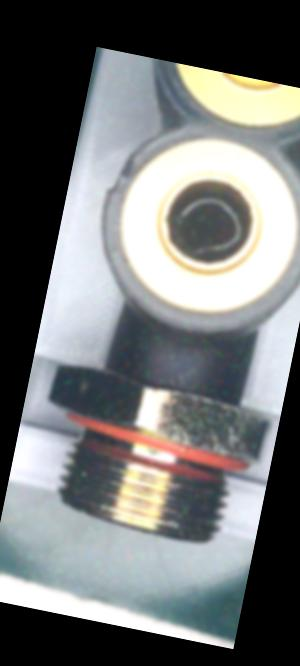bump: (108, 150, 136, 200)
joint line: (168, 342, 185, 372)
off-centered: (162, 184, 253, 267)
white mark: (178, 358, 205, 391), (162, 368, 179, 386)
